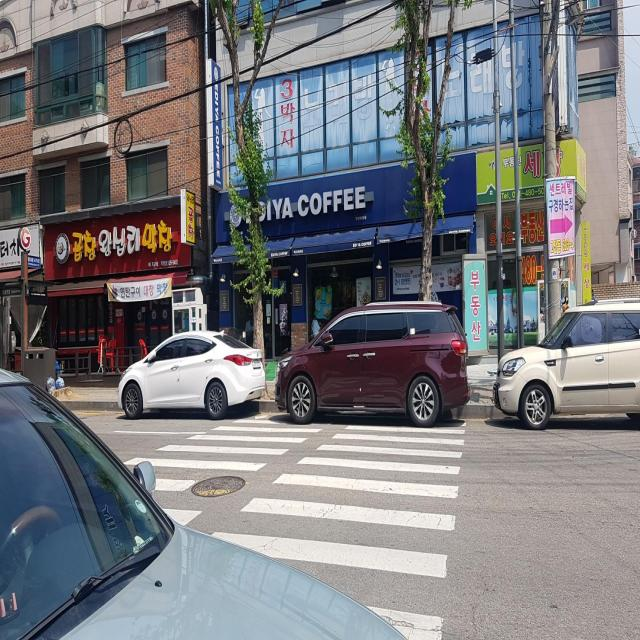횡단보도: (120, 406, 470, 640)
